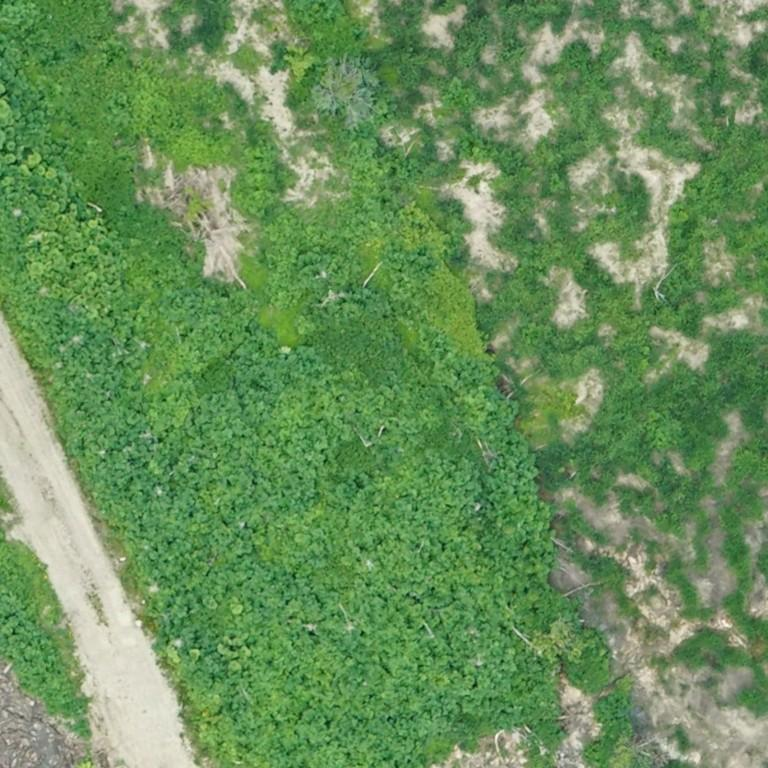hogweed: (0, 221, 571, 767), (0, 536, 88, 730), (0, 0, 84, 132), (385, 246, 436, 277), (162, 288, 205, 319), (347, 289, 387, 315), (296, 250, 329, 279)
